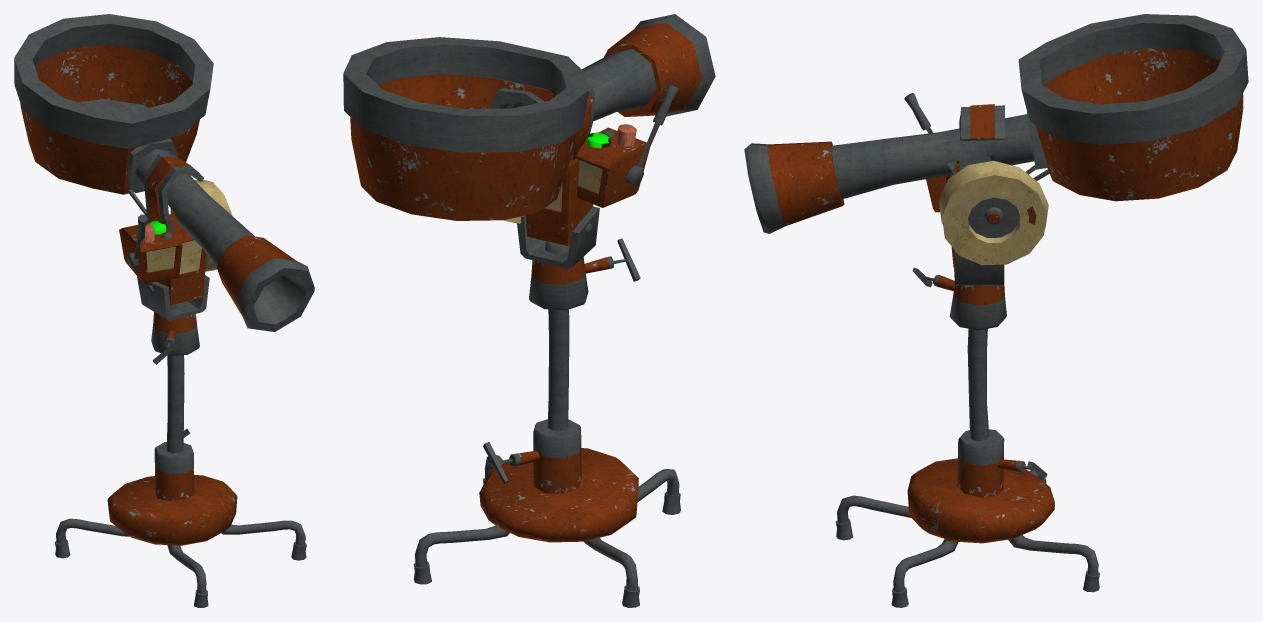
Rendered from Machine.obj.
The picture shows the model from 3 angles, left to right: view 1: azimuth 30°, elevation 25°; view 2: azimuth 150°, elevation 25°; view 3: azimuth 270°, elevation 25°; orthographic projection. The views are drawn at different scales.
Parts seen in each view (by area): view 1: Cube; view 2: Cube; view 3: Cube.
Boxes of the visible parts, bbox=[...] form: Cube: bbox=[14, 14, 314, 607]; Cube: bbox=[343, 14, 715, 607]; Cube: bbox=[744, 14, 1248, 607].
Bounding box in the file's own units: 1.39 × 3.15 × 2.83.
